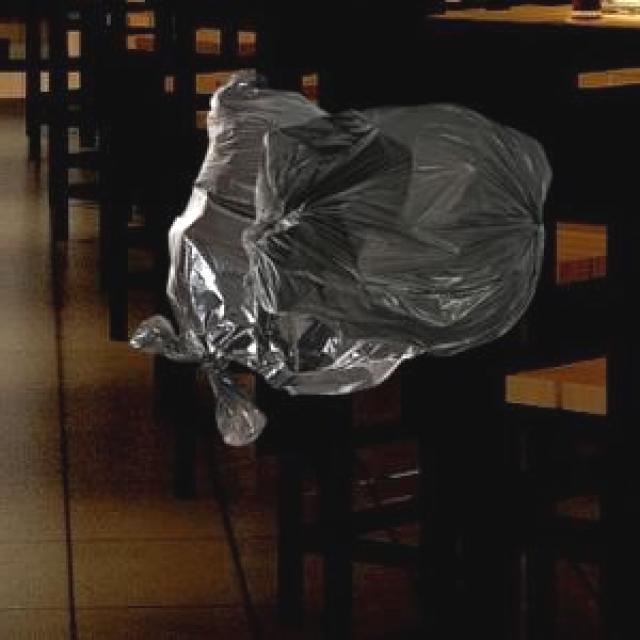Trashbag: (246, 93, 554, 364), (135, 66, 301, 398)
